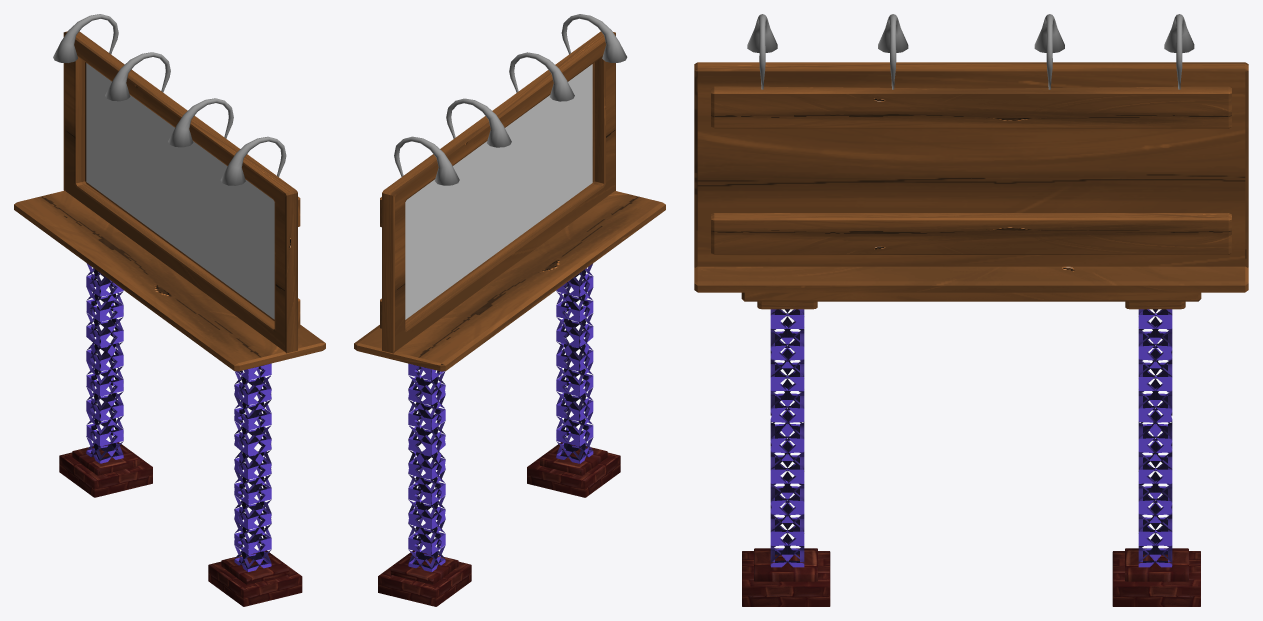
File: Billboard_TEMP.FBX
The picture shows the model from 3 angles, left to right: view 1: azimuth 30°, elevation 25°; view 2: azimuth 150°, elevation 25°; view 3: azimuth 270°, elevation 25°; orthographic projection. The views are drawn at different scales.
Parts seen in each view (by area): view 1: Billboard_AD, Billboard_Panel, Billboard_Top, Billboard_Beams, Billboard_Support, Lamps; view 2: Billboard_AD, Billboard_Panel, Billboard_Top, Billboard_Beams, Billboard_Support, Lamps; view 3: Billboard_Panel, Billboard_Beams (×2), Billboard_Top, Billboard_Support, Billboard_Middle, Lamps, Billboard_Bottom.
Boxes of the visible parts, <box> form: Billboard_AD: <box>86,63,274,319</box>; Billboard_Panel: <box>63,31,297,353</box>; Billboard_Top: <box>14,190,325,371</box>; Billboard_Beams: <box>86,263,271,571</box>; Billboard_Support: <box>59,442,302,606</box>; Lamps: <box>53,14,286,185</box>; Billboard_AD: <box>405,64,592,319</box>; Billboard_Panel: <box>382,31,615,353</box>; Billboard_Top: <box>354,191,665,371</box>; Billboard_Beams: <box>408,263,593,571</box>; Billboard_Support: <box>378,442,620,606</box>; Lamps: <box>394,14,627,185</box>; Billboard_Panel: <box>694,62,1248,267</box>; Billboard_Beams (×2): <box>711,86,1231,567</box>; Billboard_Top: <box>694,266,1248,292</box>; Billboard_Support: <box>742,548,1200,606</box>; Billboard_Middle: <box>741,292,1201,301</box>; Lamps: <box>747,14,1194,89</box>; Billboard_Bottom: <box>757,301,1185,309</box>.
Size of the model in its own units: 179 by 853 by 754.
